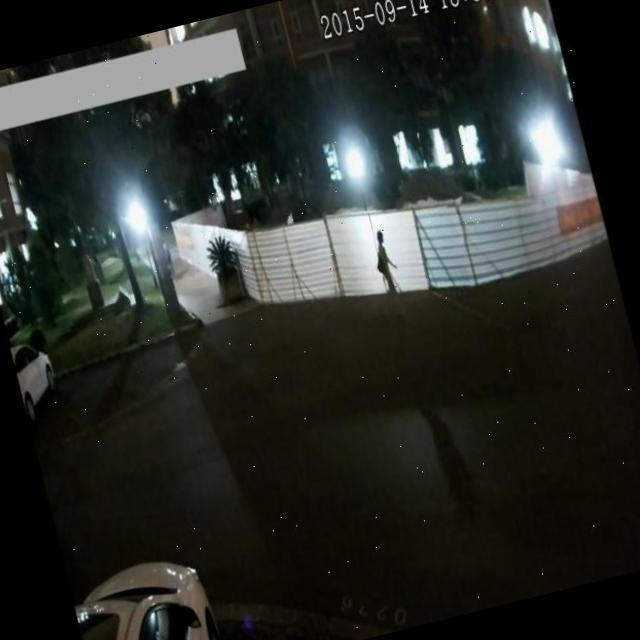person: (364, 220, 416, 326)
